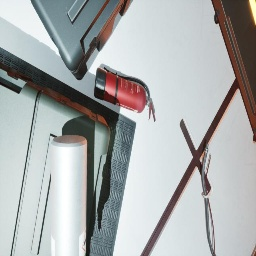0: (51, 135, 87, 256)
FireExtinguisher ]: (94, 66, 156, 122)
